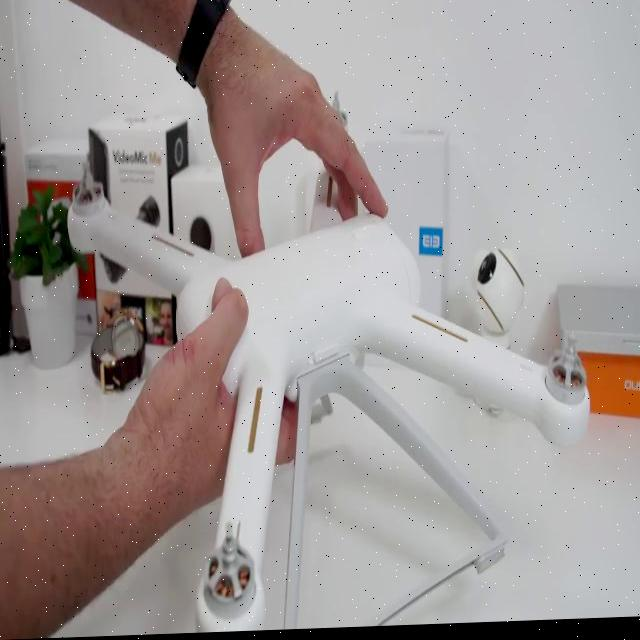drone: (59, 67, 599, 638)
